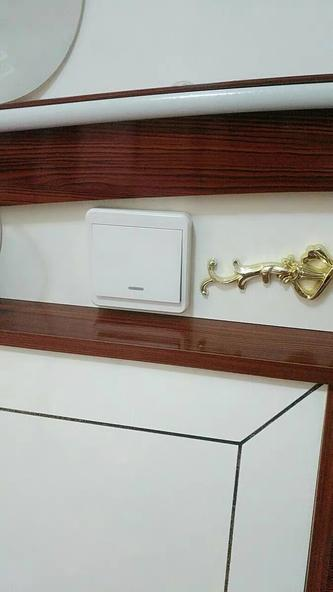switch: (83, 216, 185, 310)
